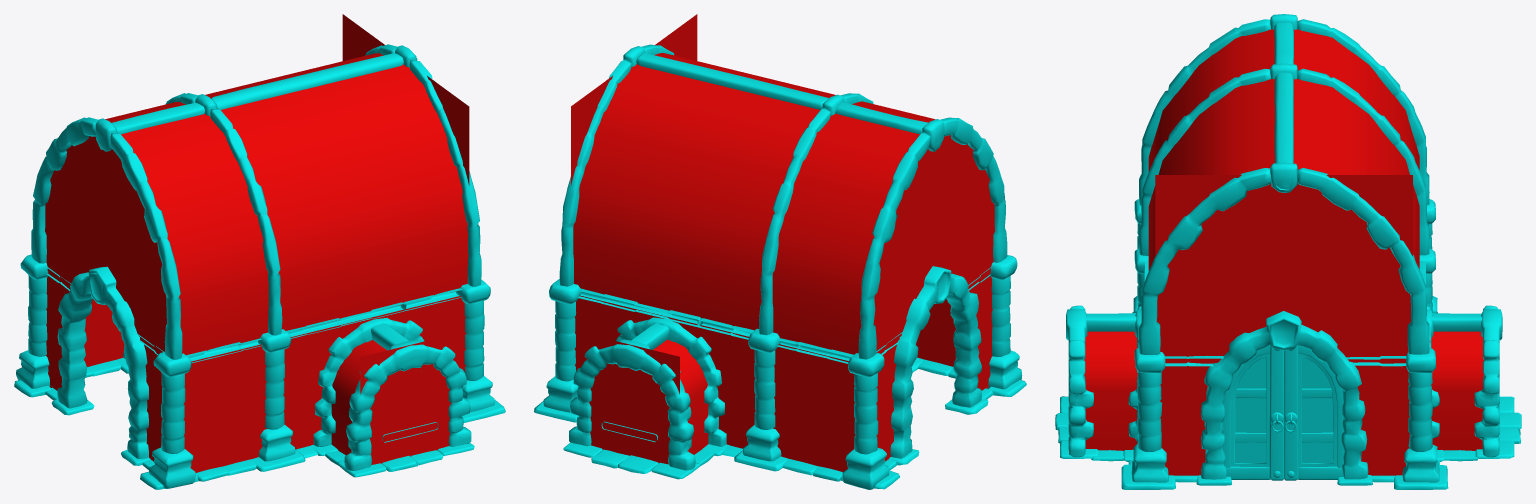
Rendered from Hallway_DeadEnd_4.fbx.
3 views of the same model, side by side, from view 1: azimuth 30°, elevation 25°; view 2: azimuth 150°, elevation 25°; view 3: azimuth 270°, elevation 25° (orthographic).
Visible parts, largest first — view 1: polySurface281, polySurface286; view 2: polySurface281, polySurface286; view 3: polySurface281, polySurface286, SM_WoodenDoor_2:polySurface322.
Part boxes in pixels (x1,y1,x2,y2): polySurface281: (45, 14, 469, 472); polySurface286: (14, 44, 505, 489); polySurface281: (571, 14, 994, 471); polySurface286: (534, 44, 1026, 489); polySurface281: (1084, 29, 1483, 479); polySurface286: (1055, 14, 1521, 489); SM_WoodenDoor_2:polySurface322: (1222, 344, 1344, 480).
Size of the model in its own units: 1033 by 1193 by 896.
